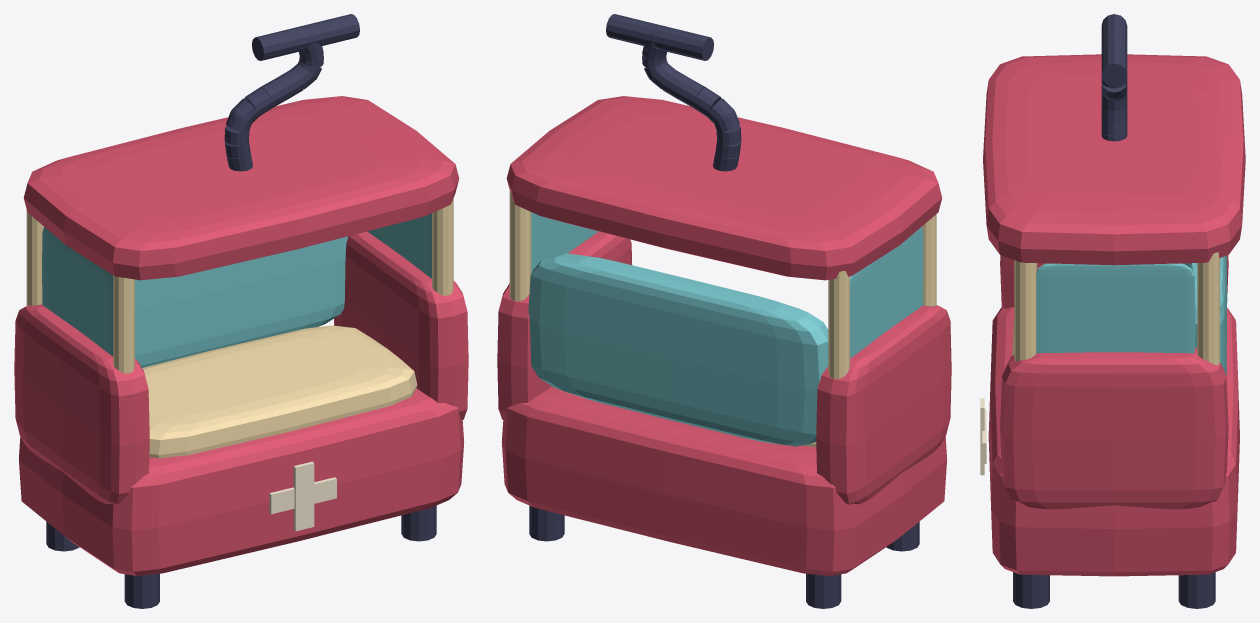
File: gondola-couch.glb
The picture shows the model from 3 angles, left to right: view 1: azimuth 30°, elevation 25°; view 2: azimuth 150°, elevation 25°; view 3: azimuth 270°, elevation 25°; orthographic projection. The views are drawn at different scales.
Parts seen in each view (by area): view 1: gondola-couch; view 2: gondola-couch; view 3: gondola-couch.
Part boxes in pixels (<box>): gondola-couch: <box>14,14,468,608</box>; gondola-couch: <box>497,14,951,608</box>; gondola-couch: <box>980,14,1245,608</box>.
Size of the model in its own units: 1.54 by 2.03 by 0.9295.
